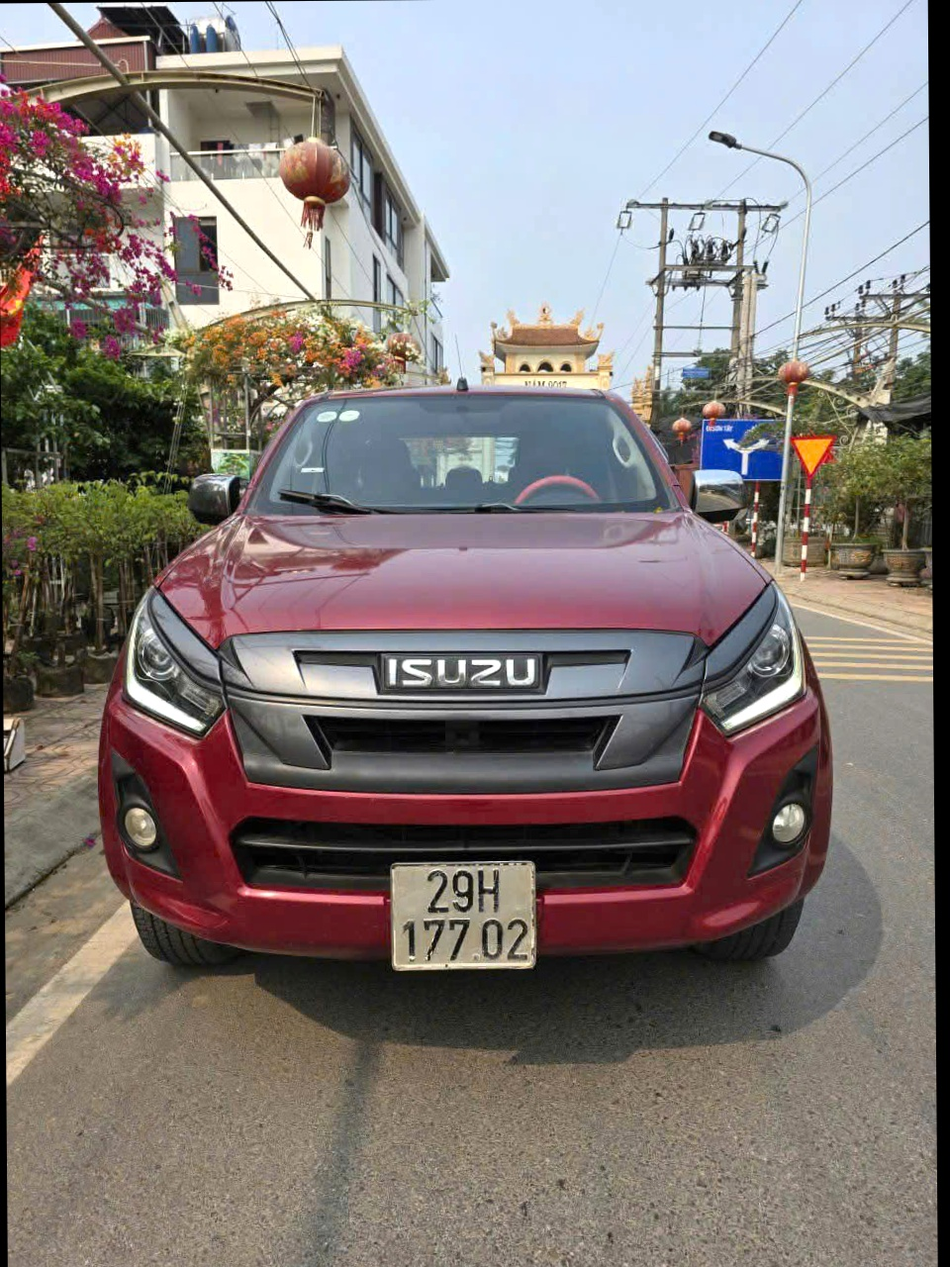Bien-so: (388, 829, 546, 937)
